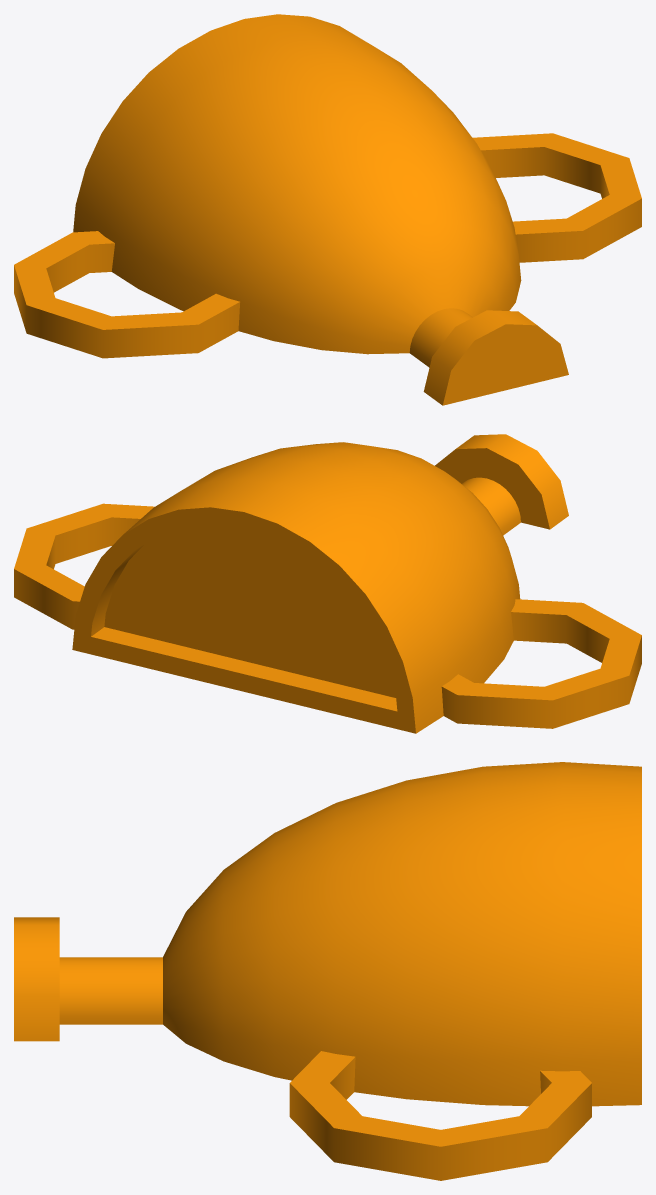
Rendered from cup.fbx.
3 views of the same model, one above another, from view 1: azimuth 30°, elevation 25°; view 2: azimuth 150°, elevation 25°; view 3: azimuth 270°, elevation 25° (orthographic). The views are drawn at different scales.
Parts seen in each view (by area): view 1: Circle; view 2: Circle; view 3: Circle.
Part boxes in pixels (bbox=[...]): Circle: bbox=[14, 14, 641, 405]; Circle: bbox=[14, 434, 641, 733]; Circle: bbox=[14, 762, 641, 1180].
Size of the model in its own units: 344 by 100 by 259.
